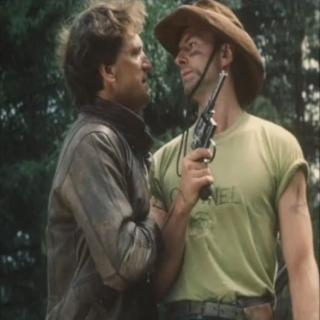gun: (187, 70, 234, 204)
